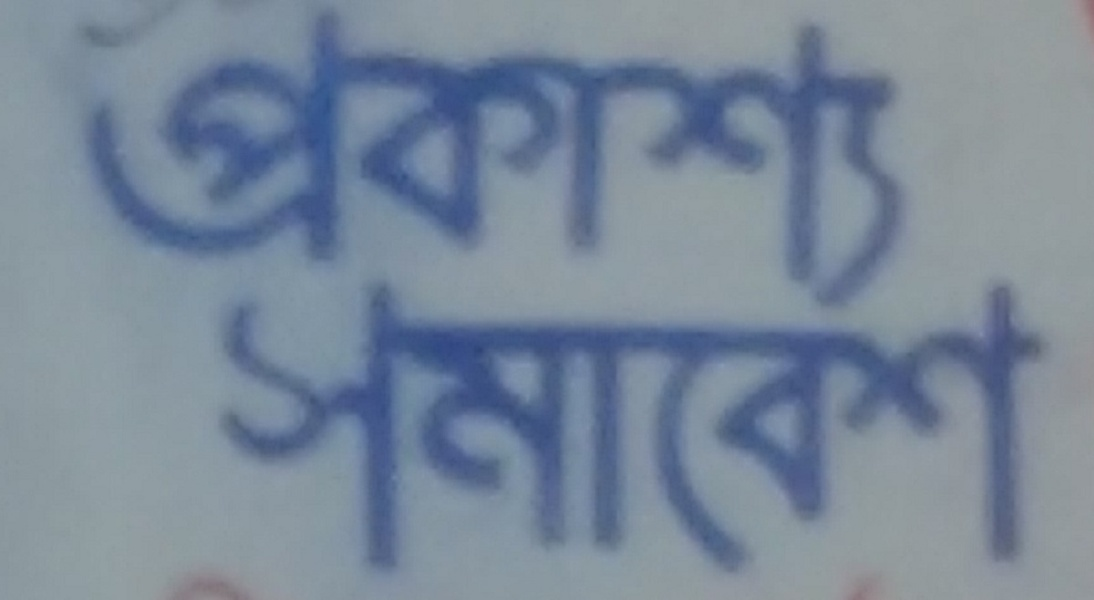text: (81, 5, 96, 321), (97, 5, 112, 321), (113, 5, 128, 321), (129, 5, 144, 321), (145, 5, 160, 321), (161, 5, 176, 321), (177, 5, 192, 321), (193, 5, 208, 321), (209, 5, 224, 321), (225, 5, 240, 321), (241, 5, 256, 321), (257, 5, 272, 321), (273, 5, 288, 321), (289, 5, 304, 321), (305, 5, 320, 321), (321, 5, 336, 321), (337, 5, 352, 321), (353, 5, 368, 321), (369, 5, 384, 321), (385, 5, 400, 321), (401, 5, 416, 321), (417, 5, 432, 321), (433, 5, 448, 321), (449, 5, 464, 321), (465, 5, 480, 321), (481, 5, 496, 321), (497, 5, 512, 321), (513, 5, 528, 321), (529, 5, 544, 321), (545, 5, 560, 321), (561, 5, 576, 321), (577, 5, 592, 321), (593, 5, 608, 321), (609, 5, 624, 321), (625, 5, 640, 321), (641, 5, 656, 321), (657, 5, 672, 321), (673, 5, 688, 321), (689, 5, 704, 321), (705, 5, 720, 321), (721, 5, 736, 321), (737, 5, 752, 321), (753, 5, 768, 321), (769, 5, 784, 321), (785, 5, 800, 321), (801, 5, 816, 321), (817, 5, 832, 321), (833, 5, 848, 321), (849, 5, 864, 321), (865, 5, 880, 321), (881, 5, 896, 321), (897, 5, 912, 321), (209, 277, 224, 582), (225, 277, 240, 582), (241, 277, 256, 582), (257, 277, 272, 582), (273, 277, 288, 582), (289, 277, 304, 582), (305, 277, 320, 582), (321, 277, 336, 582), (337, 277, 352, 582), (353, 277, 368, 582), (369, 277, 384, 582), (385, 277, 400, 582), (401, 277, 416, 582), (417, 277, 432, 582), (433, 277, 448, 582), (449, 277, 464, 582), (465, 277, 480, 582), (481, 277, 496, 582), (497, 277, 512, 582), (513, 277, 528, 582), (529, 277, 544, 582), (545, 277, 560, 582), (561, 277, 576, 582), (577, 277, 592, 582), (593, 277, 608, 582), (609, 277, 624, 582), (625, 277, 640, 582), (641, 277, 656, 582), (657, 277, 672, 582), (673, 277, 688, 582), (689, 277, 704, 582), (705, 277, 720, 582), (721, 277, 736, 582), (737, 277, 752, 582), (753, 277, 768, 582), (769, 277, 784, 582), (785, 277, 800, 582), (801, 277, 816, 582), (817, 277, 832, 582), (833, 277, 848, 582), (849, 277, 864, 582), (865, 277, 880, 582), (881, 277, 896, 582), (897, 277, 912, 582), (913, 277, 928, 582), (929, 277, 944, 582), (945, 277, 960, 582), (961, 277, 976, 582), (977, 277, 992, 582), (993, 277, 1008, 582), (1009, 277, 1024, 582), (1025, 277, 1040, 582), (1041, 277, 1056, 582), (69, 5, 80, 321), (913, 5, 919, 321), (202, 277, 208, 582), (1057, 277, 1058, 582)
